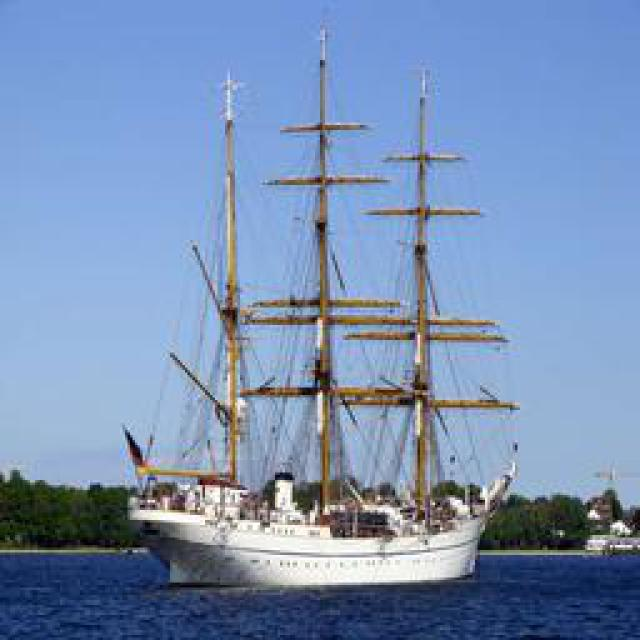Ship: (125, 29, 523, 592)
